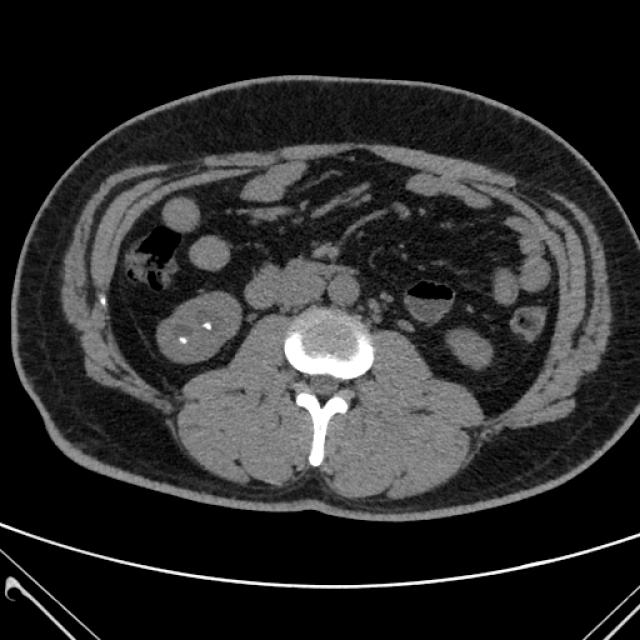kidney: (153, 287, 252, 374), (442, 322, 498, 375)
stone: (176, 333, 191, 347), (202, 319, 216, 333)
